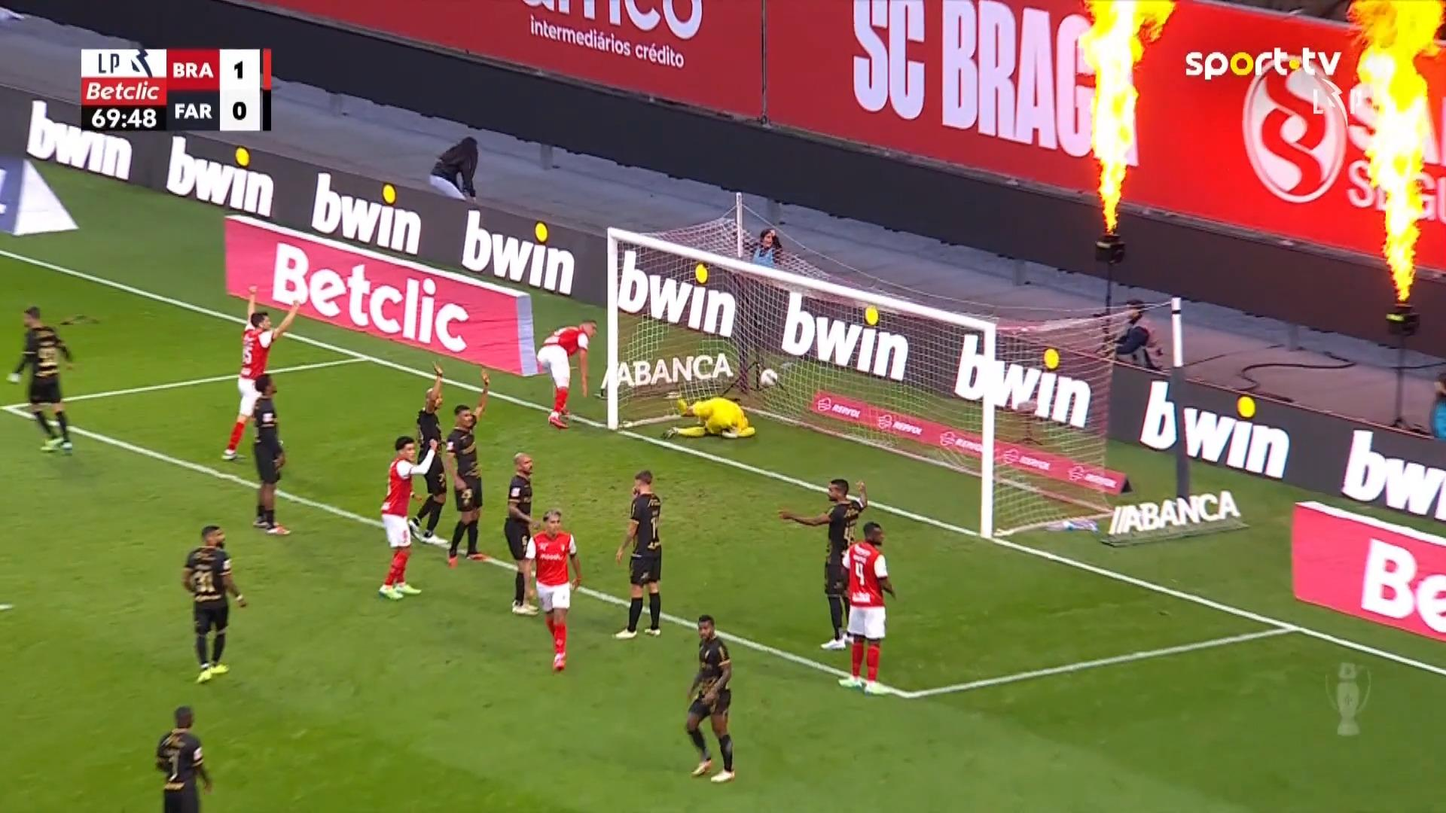ball: (758, 367, 777, 388)
goalkeeper: (662, 393, 755, 440)
player: (777, 477, 868, 651), (221, 283, 303, 461), (180, 524, 247, 684), (835, 520, 896, 694), (520, 507, 582, 672), (377, 434, 438, 601), (6, 305, 75, 452), (441, 368, 490, 567), (684, 614, 736, 782), (612, 469, 663, 638), (409, 361, 448, 545), (535, 318, 598, 429), (249, 373, 291, 535), (154, 704, 212, 811), (503, 452, 539, 615)
